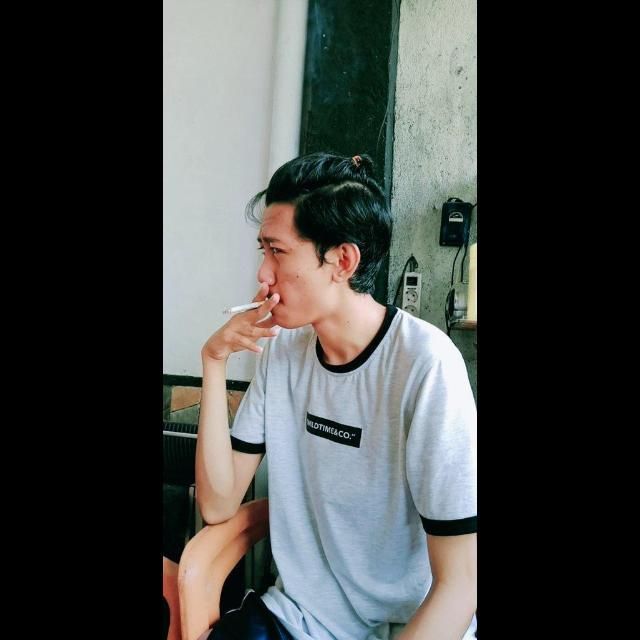rokok: (222, 300, 286, 320)
